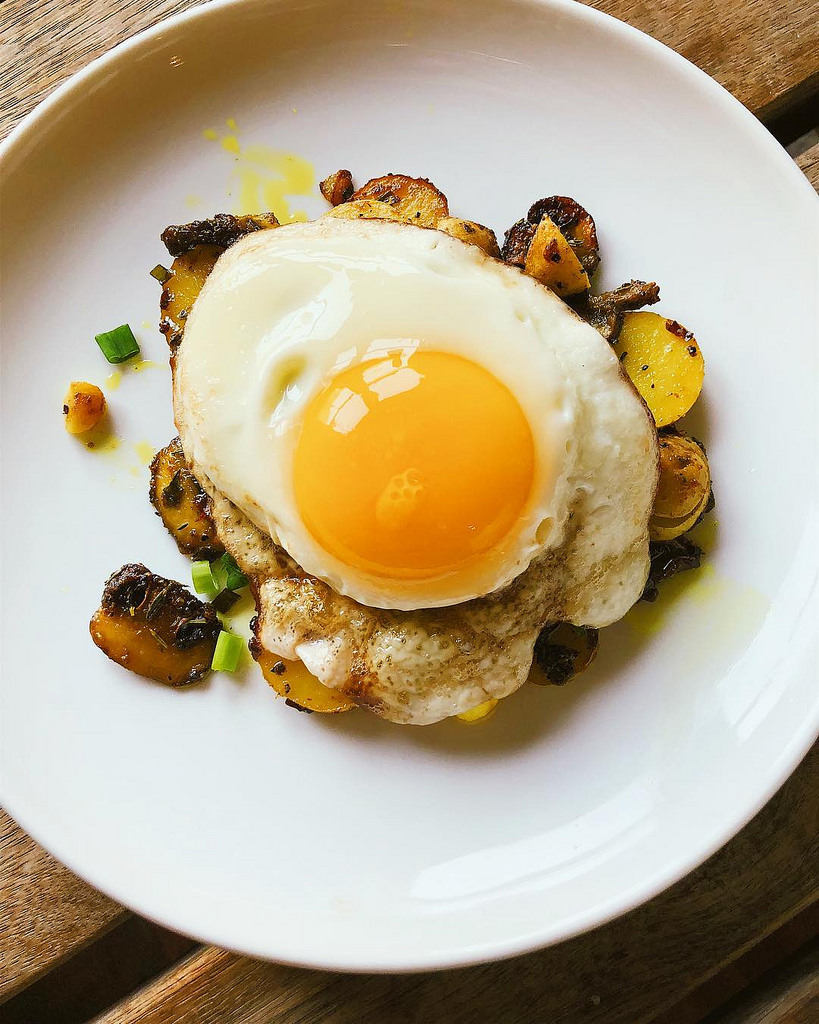fried egg: (189, 224, 639, 699)
